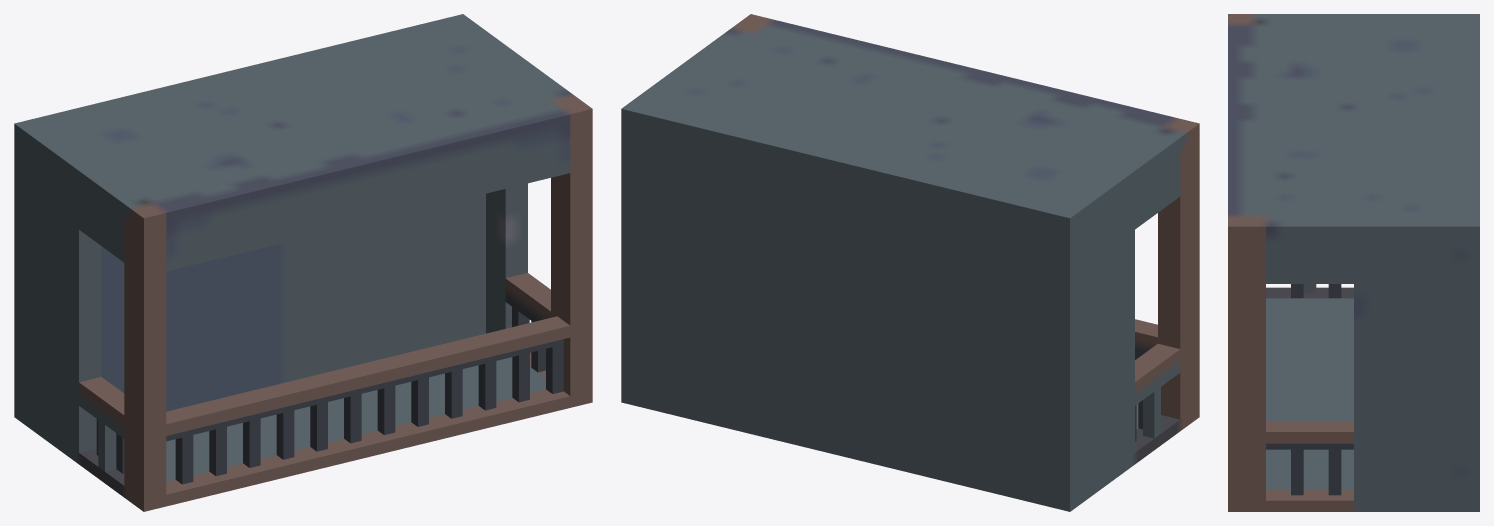
Rendered from BuildingBlock-7.fbx.
3 renders of one model, left to right at view 1: azimuth 30°, elevation 25°; view 2: azimuth 150°, elevation 25°; view 3: azimuth 270°, elevation 25°, orthographic. The views are drawn at different scales.
Visible parts, largest first — view 1: BuildingBlock_7; view 2: BuildingBlock_7; view 3: BuildingBlock_7.
Boxes of the visible parts, box(x1,y1,x2,y2) form: BuildingBlock_7: box(14, 14, 592, 511); BuildingBlock_7: box(621, 14, 1199, 511); BuildingBlock_7: box(1228, 14, 1479, 511).
Bounding box in the file's own units: 400 × 250 × 200.
